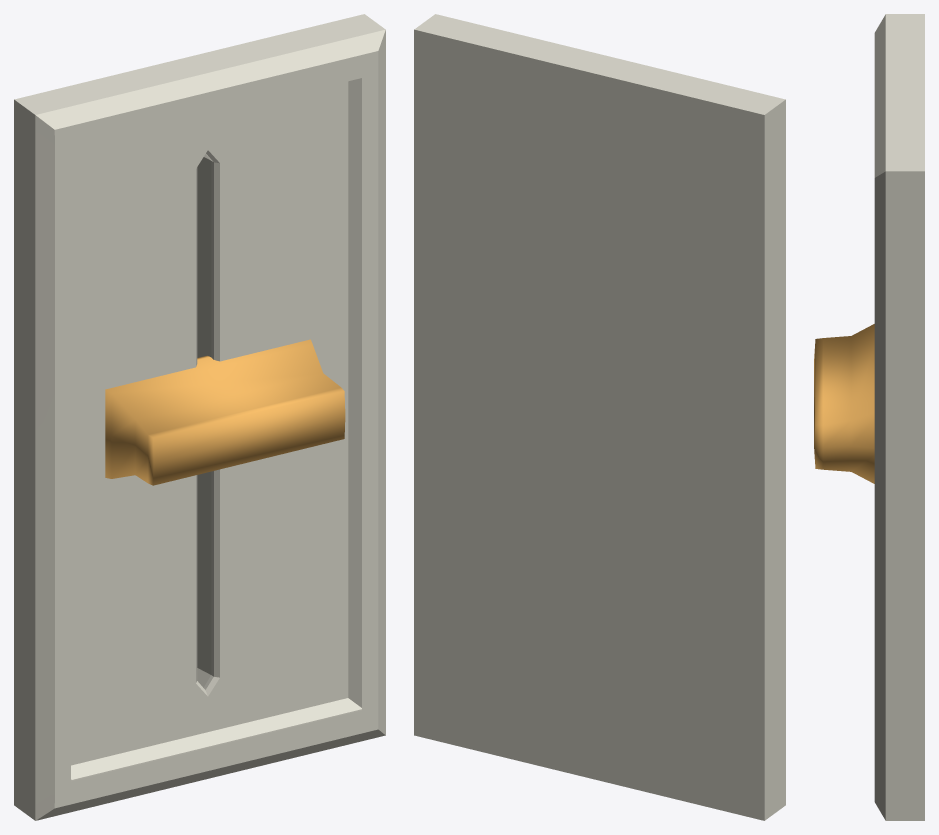
File: Slider_2.FBX
3 views of the same model, side by side, from view 1: azimuth 30°, elevation 25°; view 2: azimuth 150°, elevation 25°; view 3: azimuth 270°, elevation 25° (orthographic). The views are drawn at different scales.
Visible parts, largest first — view 1: Slider_Board001, Slider_Handle001; view 2: Slider_Board001; view 3: Slider_Board001, Slider_Handle001.
Part boxes in pixels (<box>): Slider_Board001: <box>14,14,385,820</box>; Slider_Handle001: <box>105,339,345,485</box>; Slider_Board001: <box>414,14,785,820</box>; Slider_Board001: <box>874,14,924,820</box>; Slider_Handle001: <box>814,324,874,483</box>.
Bounding box in the file's own units: 9.32 × 17.95 × 2.78.
1 material, 1 textured.
